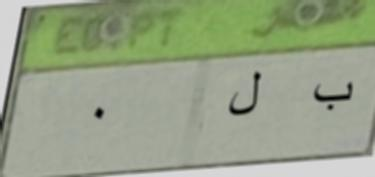0: (88, 96, 112, 132)
baa: (300, 75, 358, 120)
laam: (225, 62, 268, 120)
